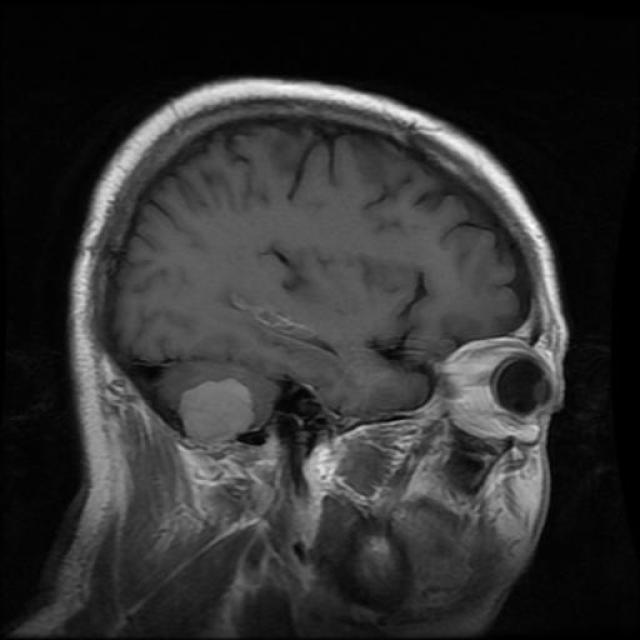meningioma: (178, 379, 255, 441)
